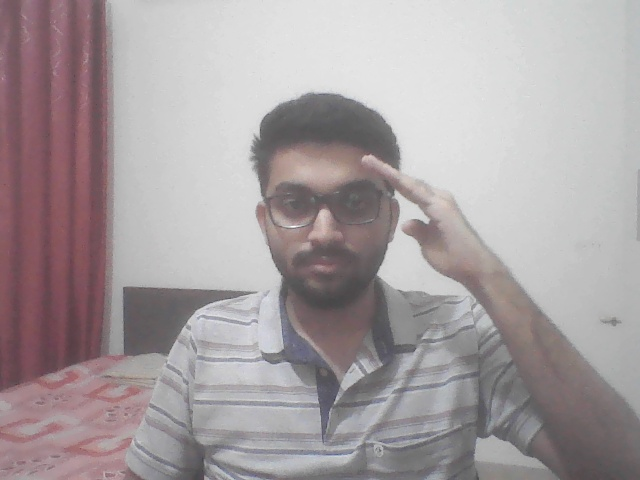hello: (351, 142, 522, 341)
